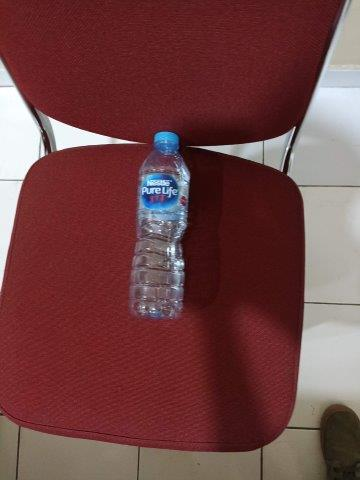botolplastik: (129, 131, 189, 321)
